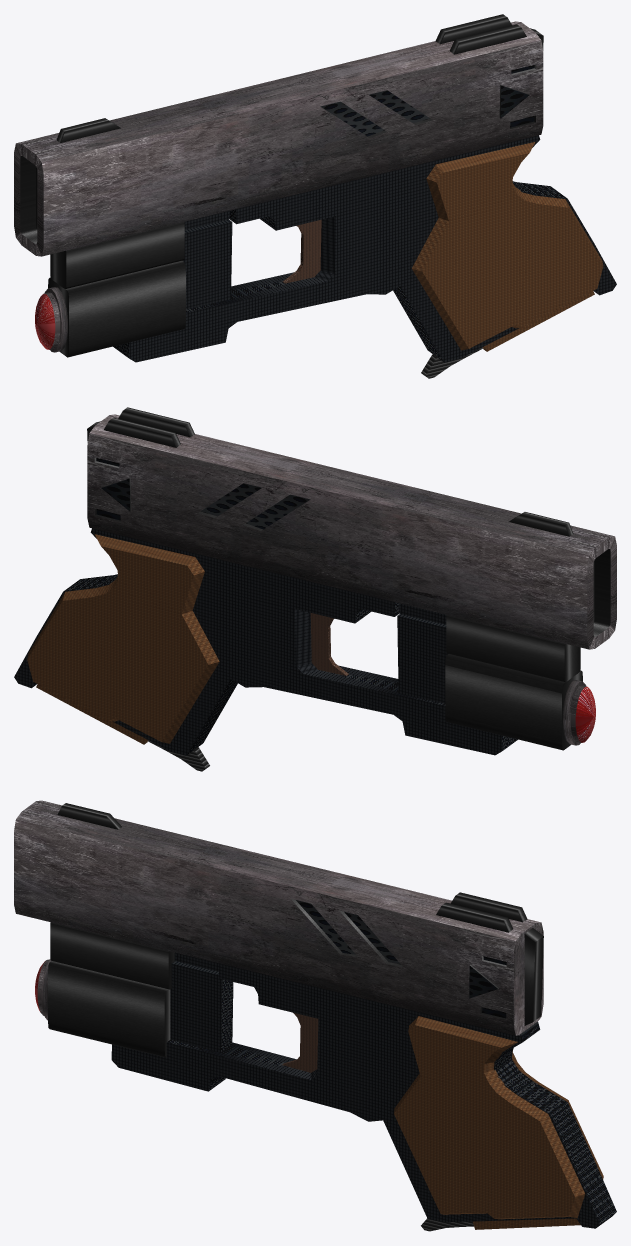
Rendered from PistolText.fbx.
3 renders of one model, top to bottom at view 1: azimuth 30°, elevation 25°; view 2: azimuth 150°, elevation 25°; view 3: azimuth 330°, elevation 25°, orthographic.
Visible parts, largest first — view 1: Pistola; view 2: Pistola; view 3: Pistola.
Part boxes in pixels (box(x1,y1,x2,y2)): Pistola: box(14, 14, 616, 378); Pistola: box(14, 407, 616, 771); Pistola: box(14, 800, 616, 1231).
Size of the model in its own units: 0.9988 by 0.5518 by 0.0943.
